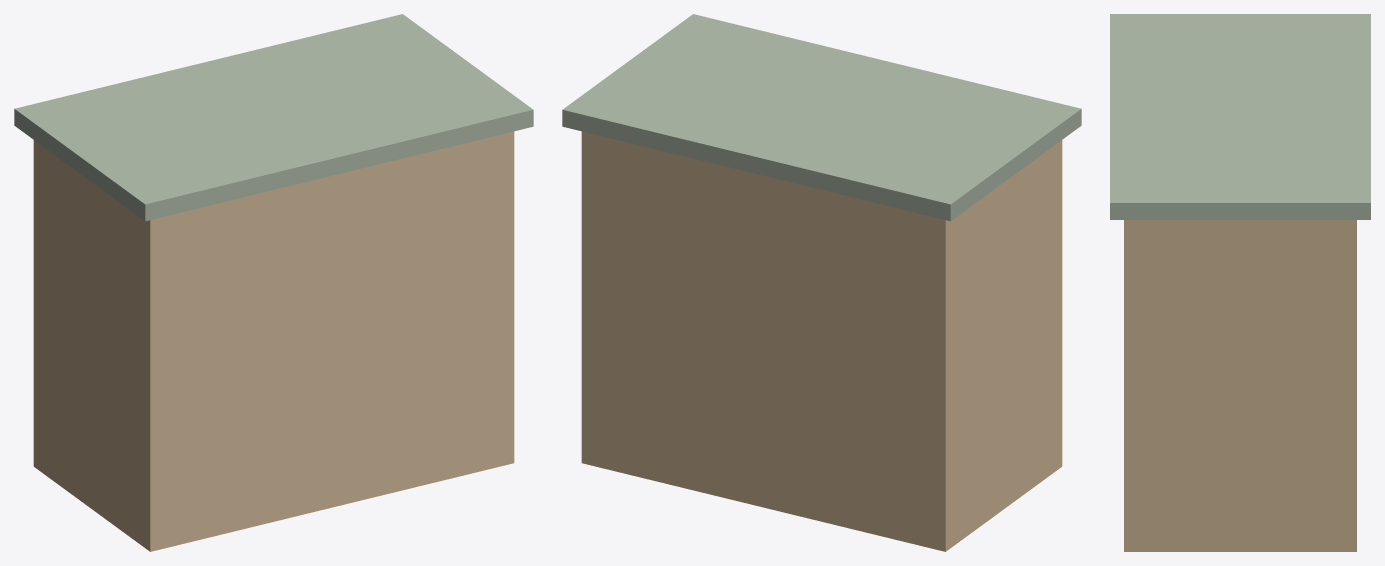
The model's file is podium.glb.
3 renders of one model, left to right at view 1: azimuth 30°, elevation 25°; view 2: azimuth 150°, elevation 25°; view 3: azimuth 270°, elevation 25°, orthographic.
Visible parts, largest first — view 1: root; view 2: root; view 3: root.
Boxes of the visible parts, left/top/right/bottom form: root: left=14, top=14, right=533, bottom=551; root: left=562, top=14, right=1081, bottom=551; root: left=1110, top=14, right=1370, bottom=551.
Size of the model in its own units: 0.96 by 0.84 by 0.56.
